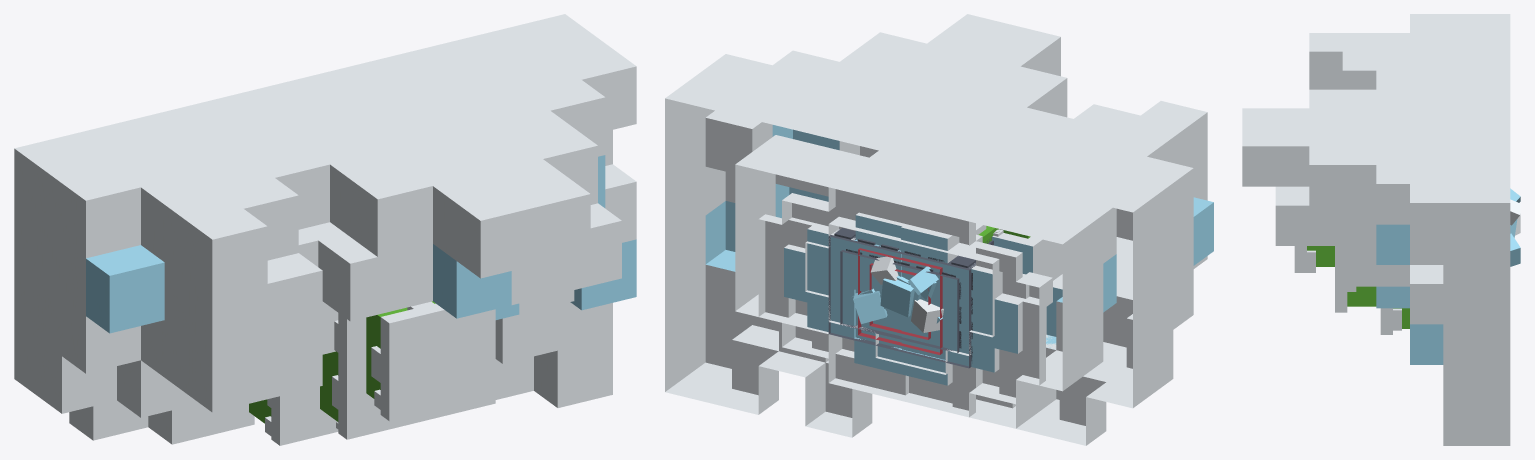
File: Deco_Zona3.fbx
3 views of the same model, side by side, from view 1: azimuth 30°, elevation 25°; view 2: azimuth 150°, elevation 25°; view 3: azimuth 270°, elevation 25° (orthographic). The views are drawn at different scales.
Visible parts, largest first — view 1: Monte_Nevado_Grande_Nieve, Pino_Nevado_Grande_Nieve, Monte_Nevado_Grande_Hielo, Monte_Nevado_Mediano_Nieve, Pino_Nevado_Grande_Copa; view 2: Monte_Nevado_Grande_Nieve, Monte_Nevado_Mediano_Nieve, Lago_Congelado_Nieve, Lago_Congelado_Hielo, Monte_Nevado_Grande_Hielo, Monte_Nevado_Chico_Nieve, Pico_Hielo_HieloCeleste, Escalones_Nevados_1_Piedra, Monte_Nevado_Mediano_Hielo, Pico_Hielo_HieloBlanco, Escalones_Nevados_2_Piedra, Pino_Nevado_Grande_Tronco; view 3: Monte_Nevado_Grande_Nieve, Monte_Nevado_Grande_Hielo, Pino_Nevado_Grande_Nieve, Pino_Nevado_Grande_Copa, Pico_Hielo_HieloCeleste, Pico_Hielo_HieloBlanco.
Part boxes in pixels (x1,y1,x2,y2): Monte_Nevado_Grande_Nieve: (14,14,636,444); Pino_Nevado_Grande_Nieve: (265,301,495,445); Monte_Nevado_Grande_Hielo: (86,155,636,333); Monte_Nevado_Mediano_Nieve: (212,222,405,432); Pino_Nevado_Grande_Copa: (249,301,435,423); Monte_Nevado_Grande_Nieve: (665,14,1207,445); Monte_Nevado_Mediano_Nieve: (735,135,1116,428); Lago_Congelado_Nieve: (758,182,1052,417); Lago_Congelado_Hielo: (784,215,1017,385); Monte_Nevado_Grande_Hielo: (705,125,1213,274); Monte_Nevado_Chico_Nieve: (805,216,1002,374); Pico_Hielo_HieloCeleste: (853,266,938,324); Escalones_Nevados_1_Piedra: (828,228,993,368); Monte_Nevado_Mediano_Hielo: (775,184,1116,348); Pico_Hielo_HieloBlanco: (870,256,943,332); Escalones_Nevados_2_Piedra: (840,249,961,352); Pino_Nevado_Grande_Tronco: (858,248,942,354); Monte_Nevado_Grande_Nieve: (1242,14,1510,445); Monte_Nevado_Grande_Hielo: (1376,224,1443,364); Pino_Nevado_Grande_Nieve: (1294,246,1401,334); Pino_Nevado_Grande_Copa: (1307,246,1409,328); Pico_Hielo_HieloCeleste: (1510,188,1520,266); Pico_Hielo_HieloBlanco: (1510,199,1520,235).
Bounding box in the file's own units: 11.2 × 6.72 × 6.98.
